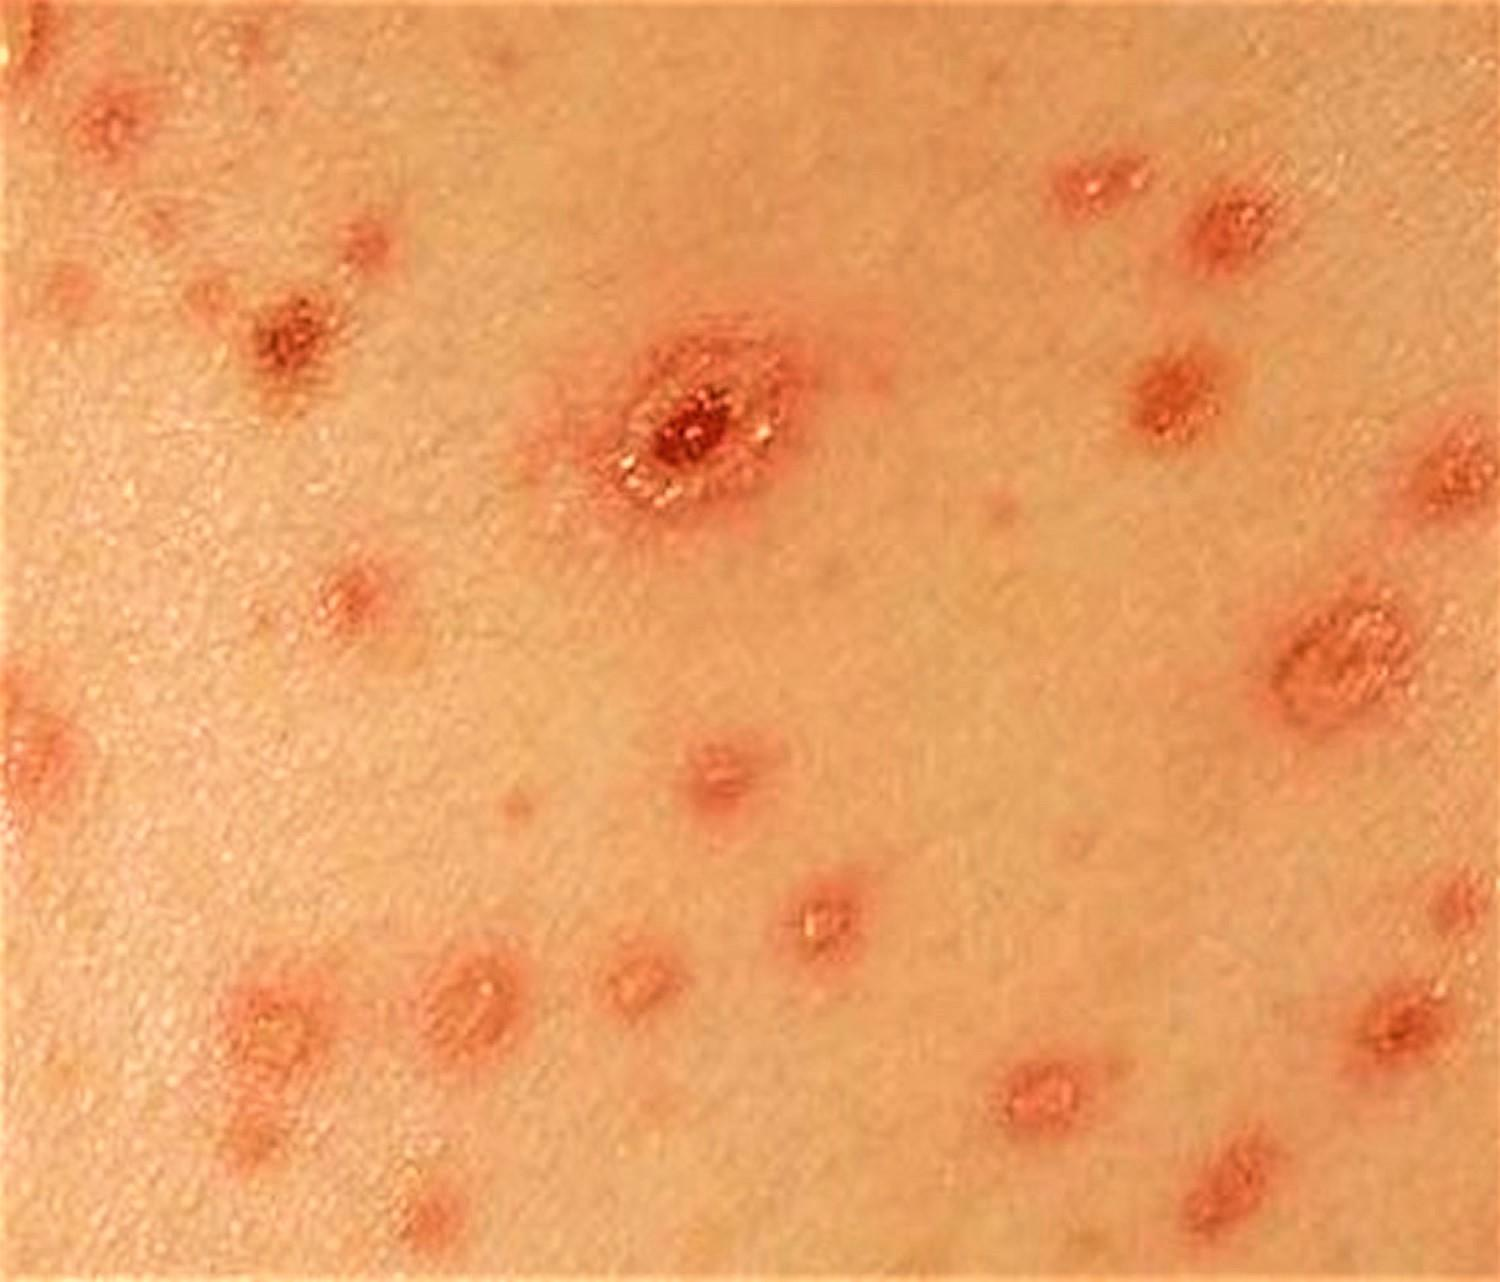Chiggers: (566, 282, 835, 575), (379, 914, 567, 1107), (1090, 315, 1254, 491), (1151, 1109, 1307, 1263), (1157, 152, 1309, 302), (550, 913, 703, 1061), (1296, 582, 1414, 735), (51, 59, 173, 195), (0, 668, 97, 835), (1331, 961, 1457, 1086), (1027, 132, 1165, 240), (656, 712, 775, 836), (212, 977, 344, 1088), (310, 546, 438, 658), (1391, 413, 1499, 533), (994, 1045, 1104, 1161), (242, 288, 350, 402), (198, 1080, 314, 1181), (788, 885, 899, 980), (389, 1166, 474, 1276), (1426, 851, 1499, 949), (326, 202, 396, 283), (495, 774, 554, 834)
